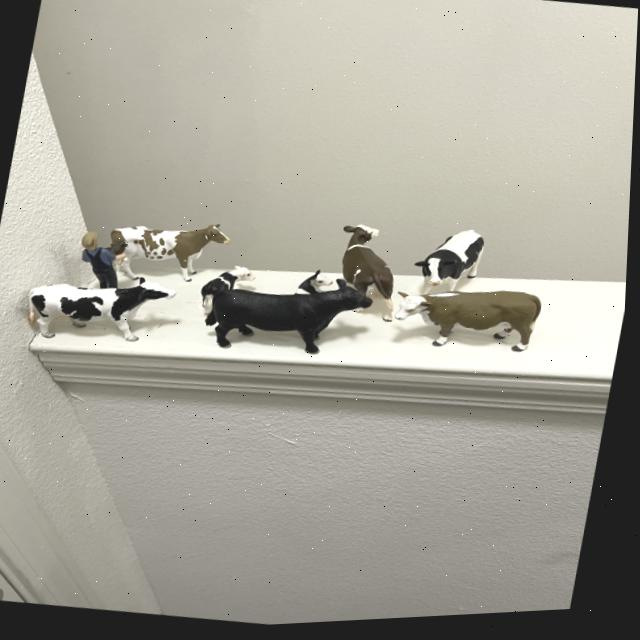cow: (207, 280, 379, 366), (396, 287, 546, 360), (31, 282, 179, 345), (331, 221, 408, 334), (407, 227, 501, 310), (113, 227, 233, 283), (189, 257, 260, 331), (297, 270, 338, 310), (109, 237, 132, 260)
person: (74, 227, 132, 295)
